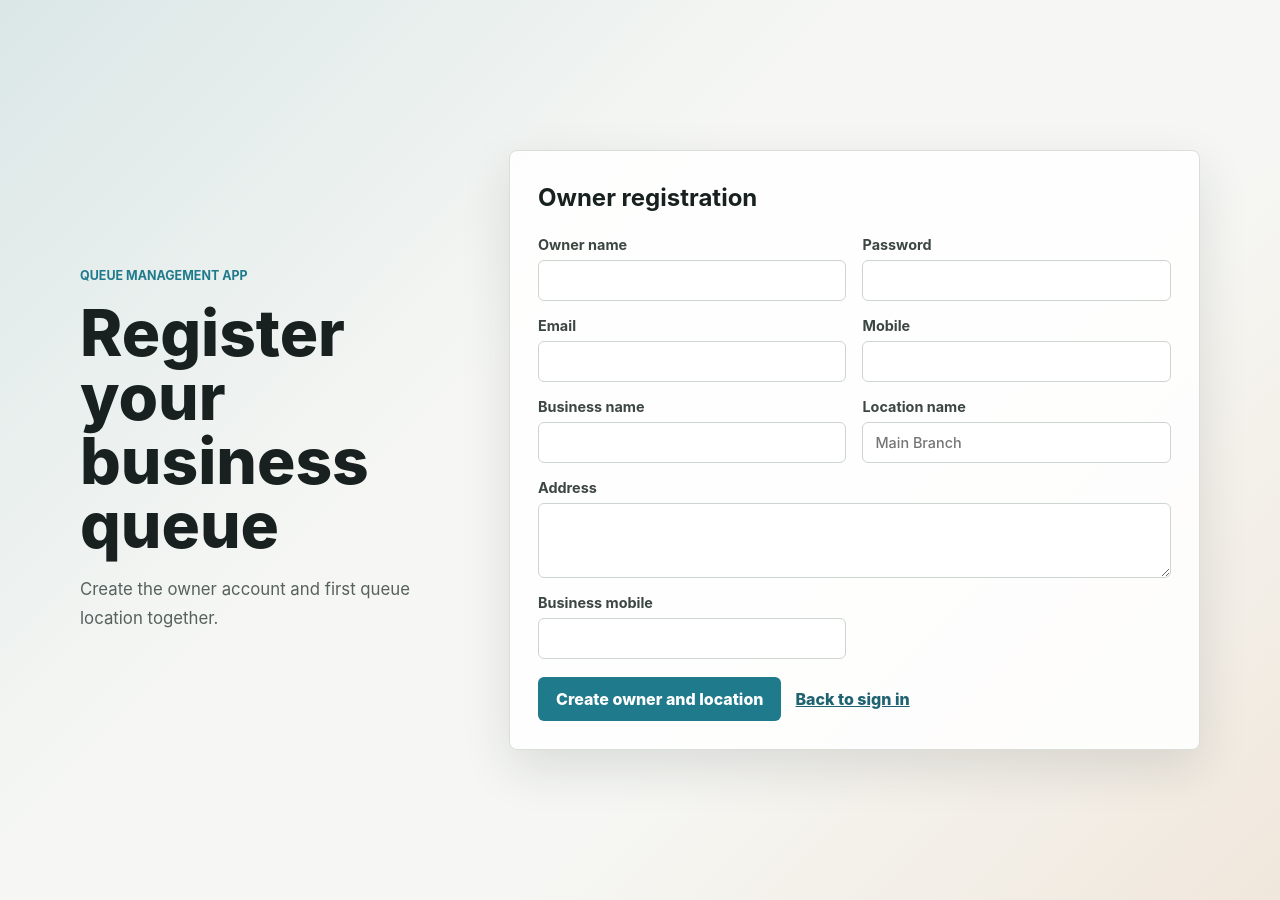
it: OwnerRegistrationComponent › should show conflict feedback when the owner contact already exists
Type "Priya Sharma" into the field labelled "Owner name".
click(692, 280); type("Priya Sharma")  # box x1=538 y1=260 x2=846 y2=301
Type "priya@example.com" into the field labelled "Email".
click(692, 362); type("priya@example.com")  # box x1=538 y1=341 x2=846 y2=382
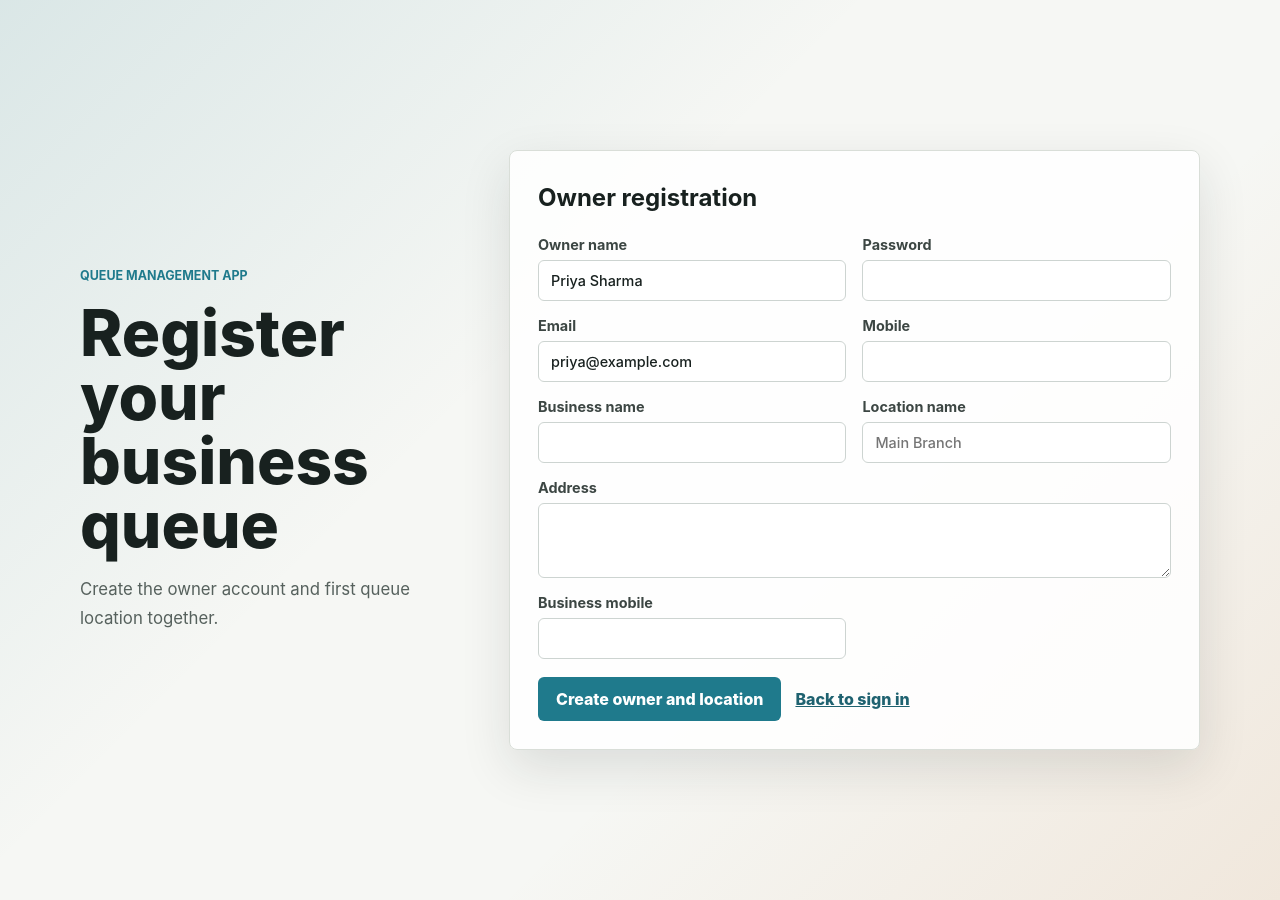
Type "StrongPass123" into the password field labelled "Password".
click(1017, 280); type("StrongPass123")  # box x1=862 y1=260 x2=1171 y2=301
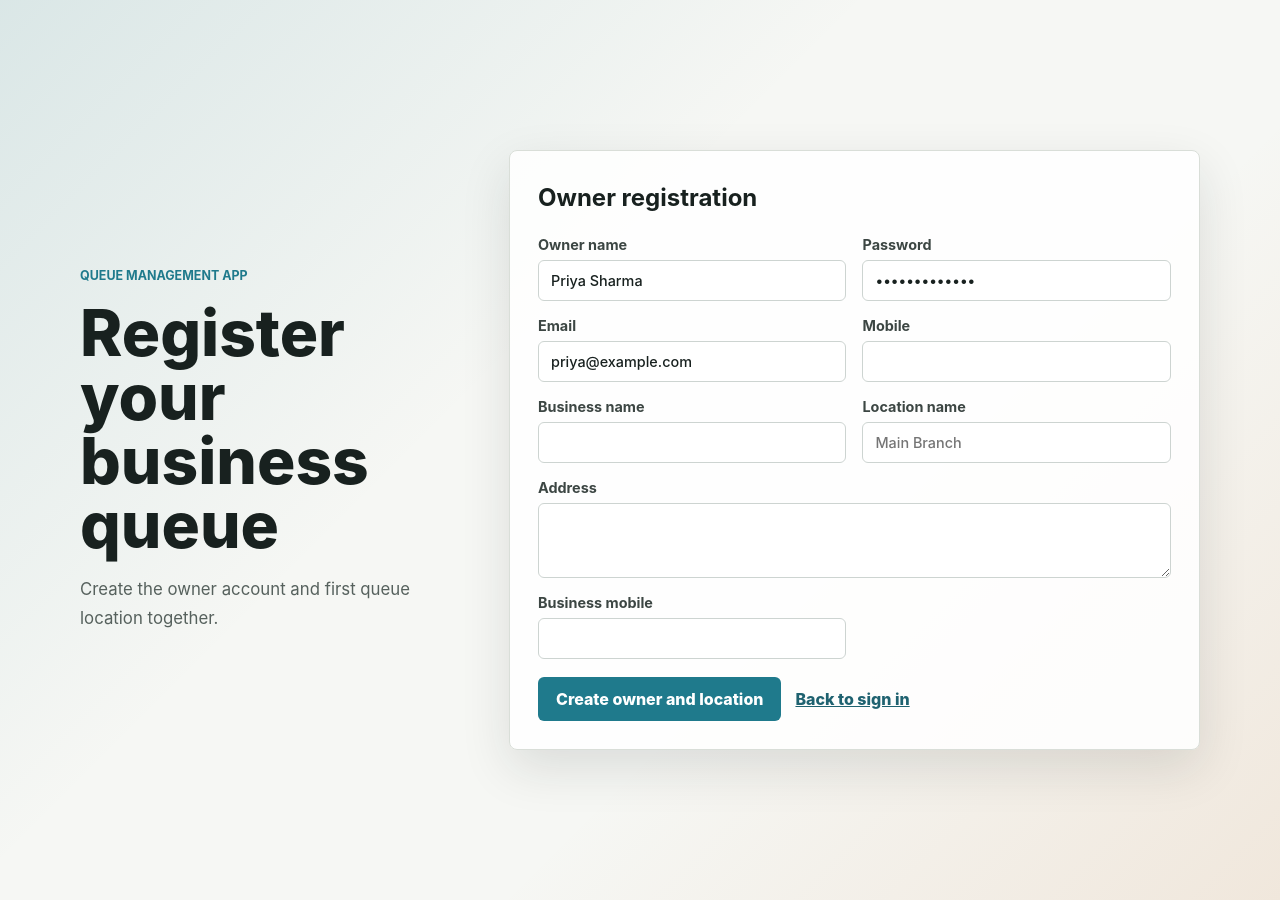
Type "Priya Dental Clinic" into the field labelled "Business name".
click(692, 442); type("Priya Dental Clinic")  # box x1=538 y1=422 x2=846 y2=463
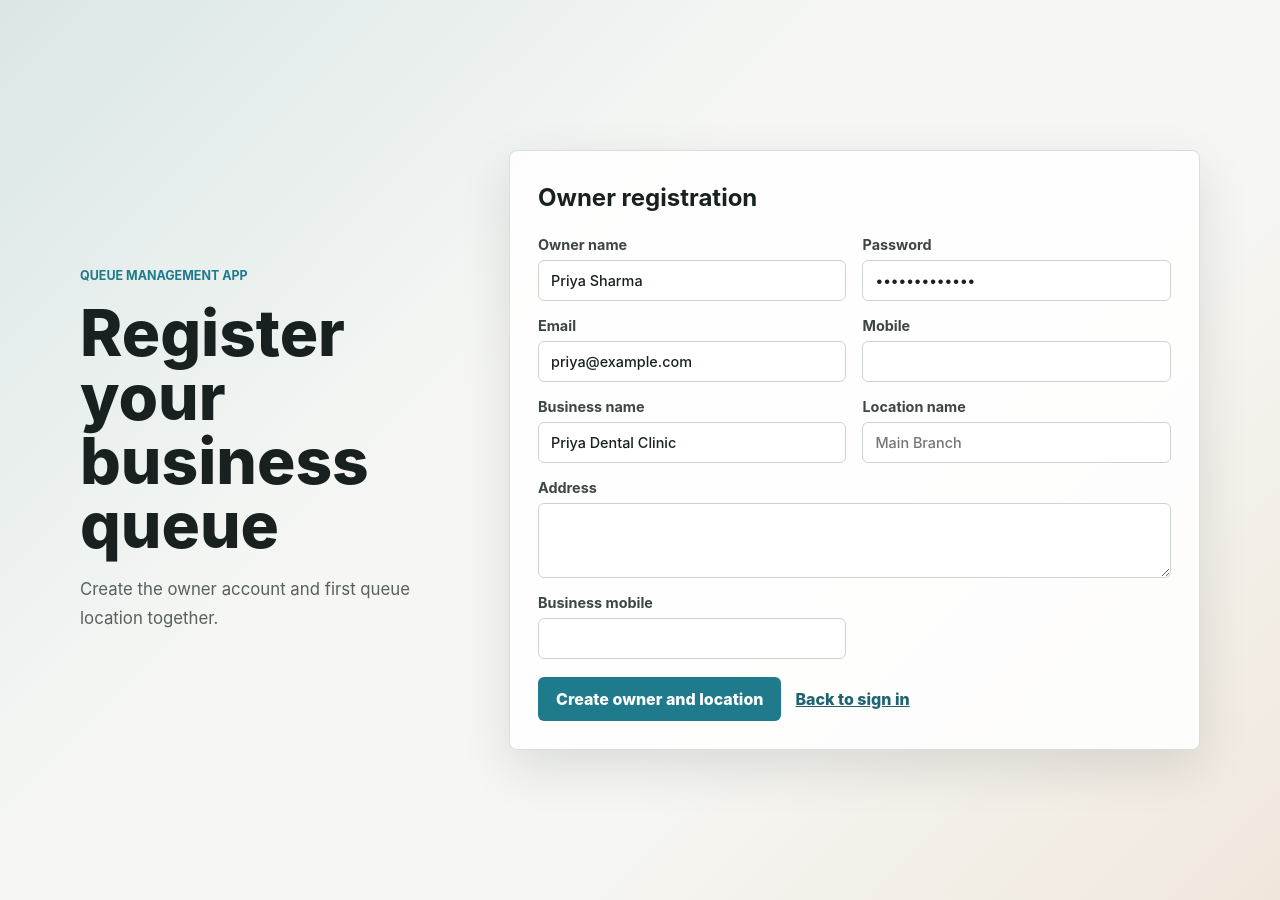
Type "12 MG Road, Bengaluru" into the text box labelled "Address".
click(854, 540); type("12 MG Road, Bengaluru")  # box x1=538 y1=503 x2=1171 y2=578
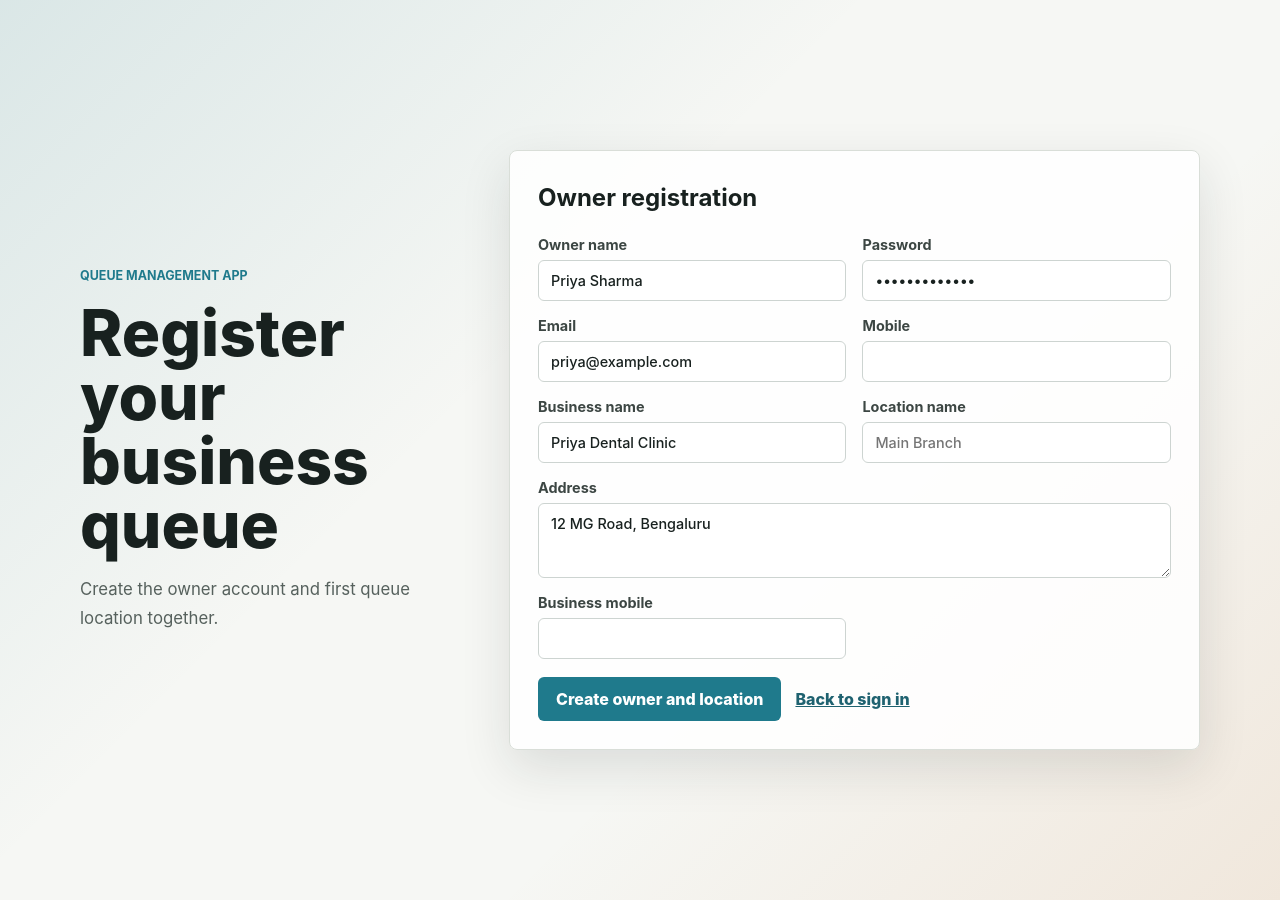
Type "9876500000" into the field labelled "Business mobile".
click(692, 638); type("9876500000")  # box x1=538 y1=618 x2=846 y2=659
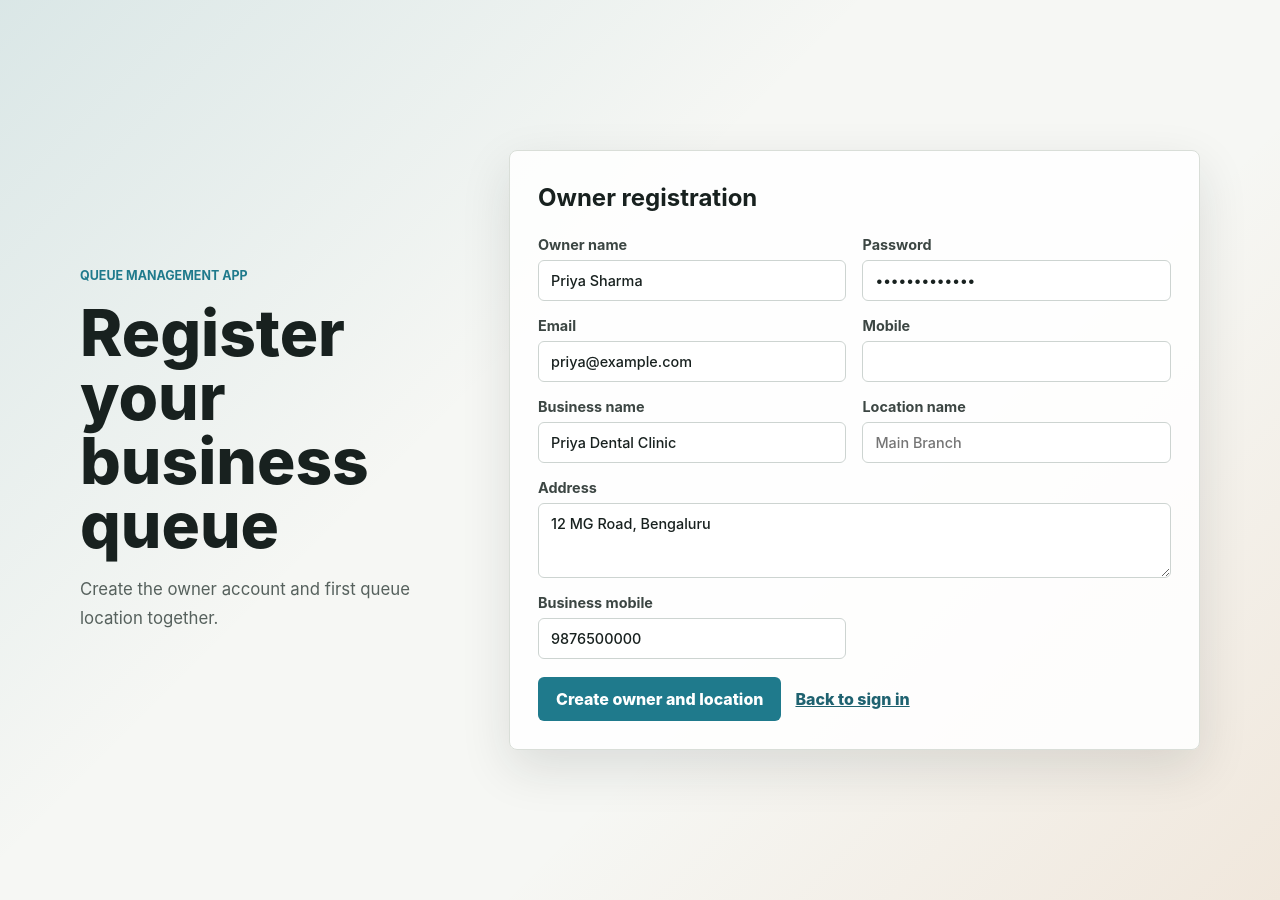
Submit the form with class "registration-form", box x1=538 y1=236 x2=1171 y2=721
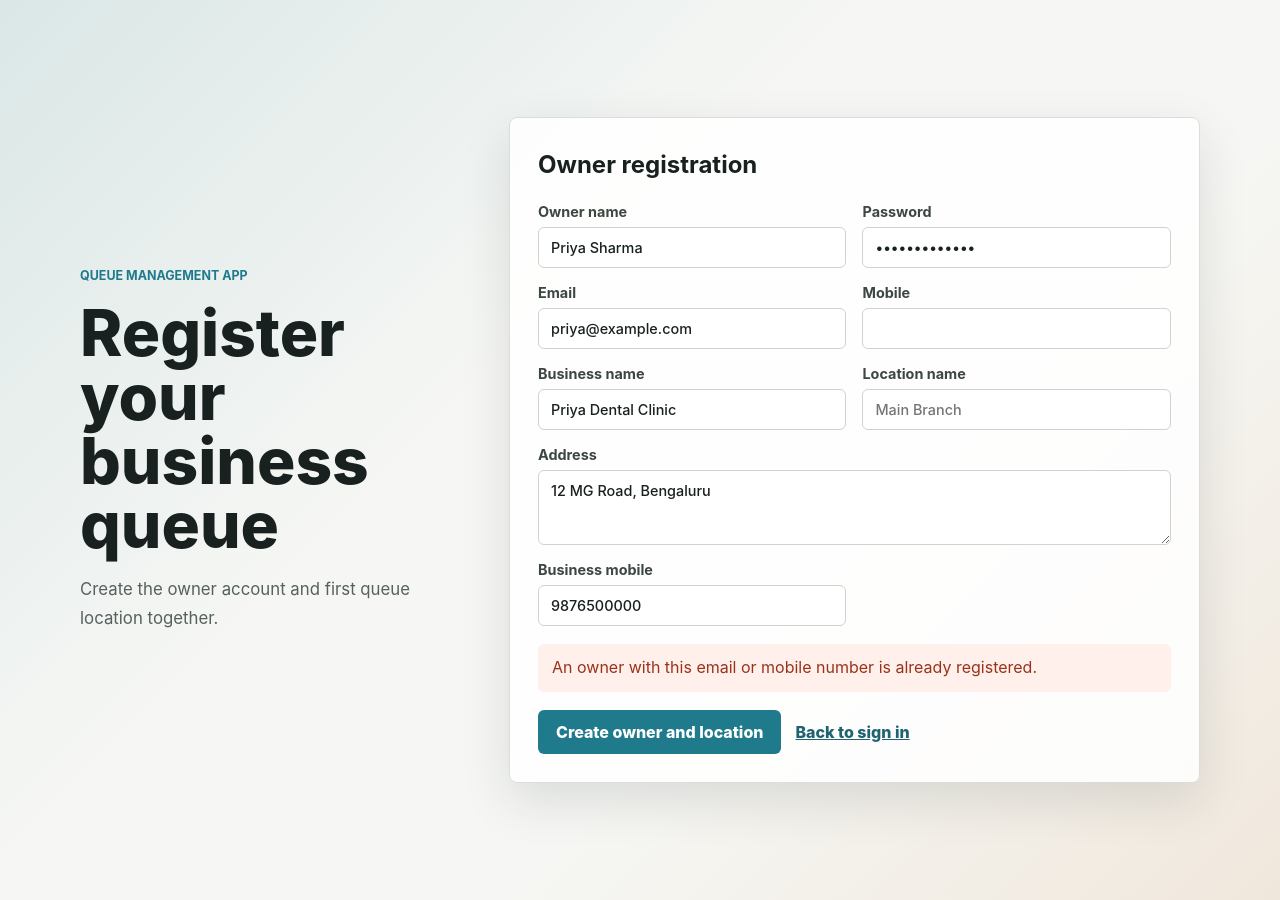
Check: the message "An owner with this email or mobile number is already registered." is shown, box x1=538 y1=644 x2=1171 y2=692
